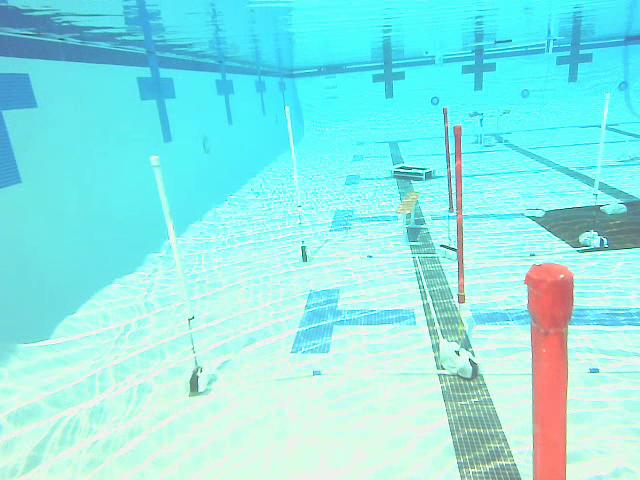black_poster: (448, 125, 484, 376), (433, 103, 466, 247)
white_poster: (146, 157, 220, 400), (271, 103, 316, 261), (578, 89, 615, 254)
